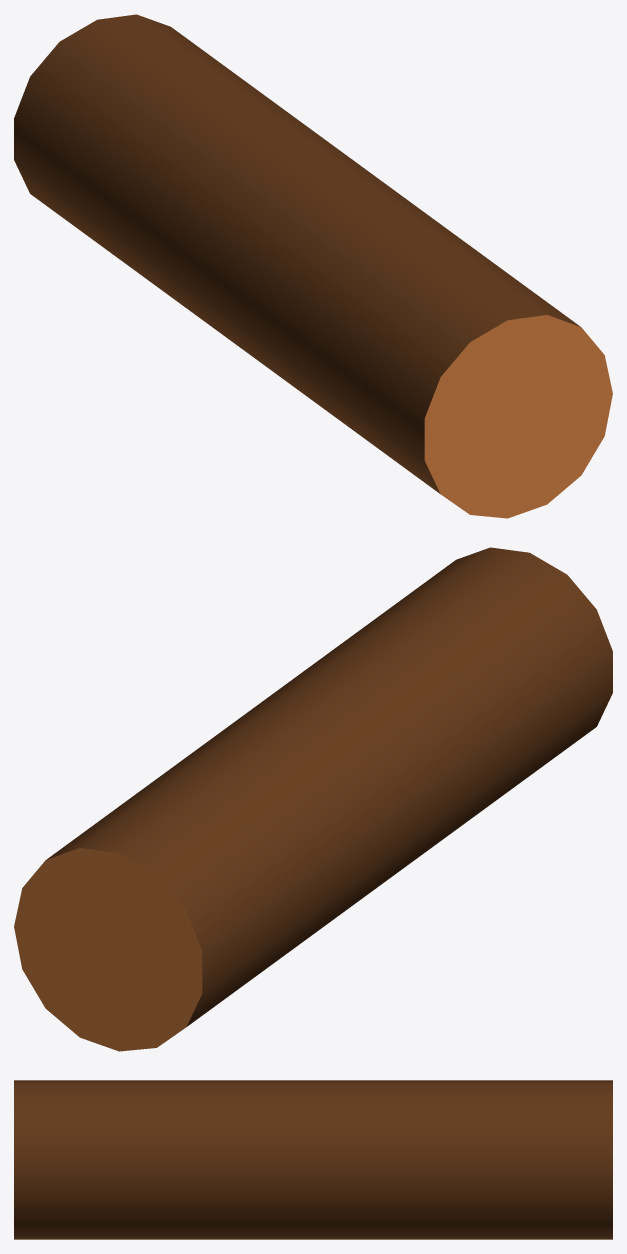
The model's file is Trunco.fbx.
The picture shows the model from 3 angles, top to bottom: view 1: azimuth 30°, elevation 25°; view 2: azimuth 150°, elevation 25°; view 3: azimuth 270°, elevation 25°; orthographic projection. The views are drawn at different scales.
Parts seen in each view (by area): view 1: Tronco; view 2: Tronco; view 3: Tronco.
Boxes of the visible parts, bbox=[...] form: Tronco: bbox=[14, 14, 612, 518]; Tronco: bbox=[14, 547, 612, 1051]; Tronco: bbox=[14, 1080, 612, 1239].
Size of the model in its own units: 2.88 by 2.9 by 10.86.
